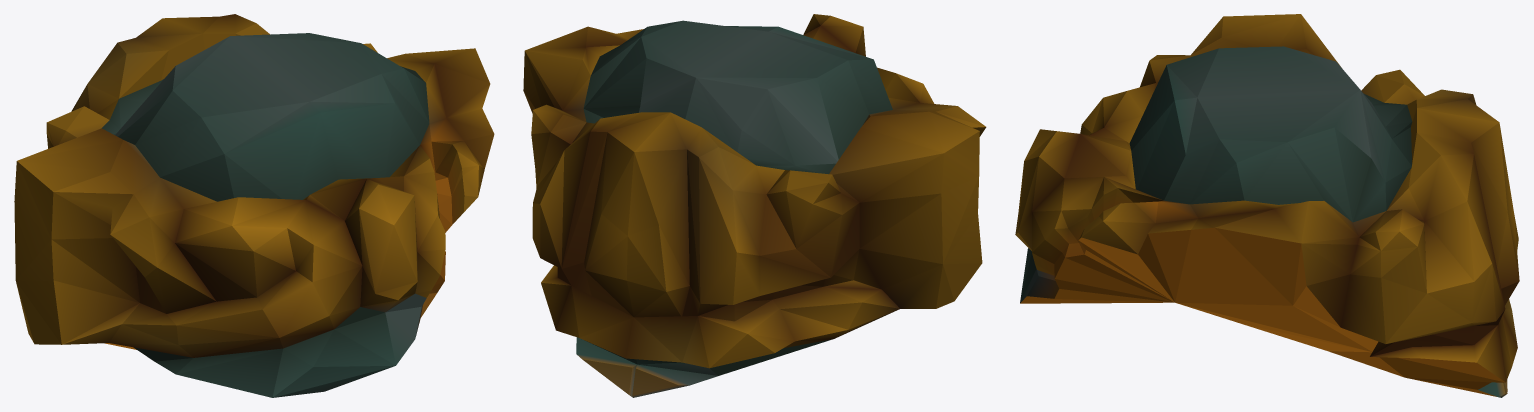
The model's file is ENV_Totem_01_BrokenPiece_04.fbx.
3 views of the same model, side by side, from view 1: azimuth 30°, elevation 25°; view 2: azimuth 150°, elevation 25°; view 3: azimuth 270°, elevation 25° (orthographic). The views are drawn at different scales.
Visible parts, largest first — view 1: ENV_Totem_01_BrokenPiece_04; view 2: ENV_Totem_01_BrokenPiece_04; view 3: ENV_Totem_01_BrokenPiece_04.
Part boxes in pixels (x1,y1,x2,y2): ENV_Totem_01_BrokenPiece_04: (14,14,494,397); ENV_Totem_01_BrokenPiece_04: (523,14,986,397); ENV_Totem_01_BrokenPiece_04: (1015,14,1519,397).
Size of the model in its own units: 345 by 215 by 319.
